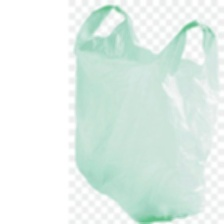plastic_bag: (68, 2, 223, 223)
